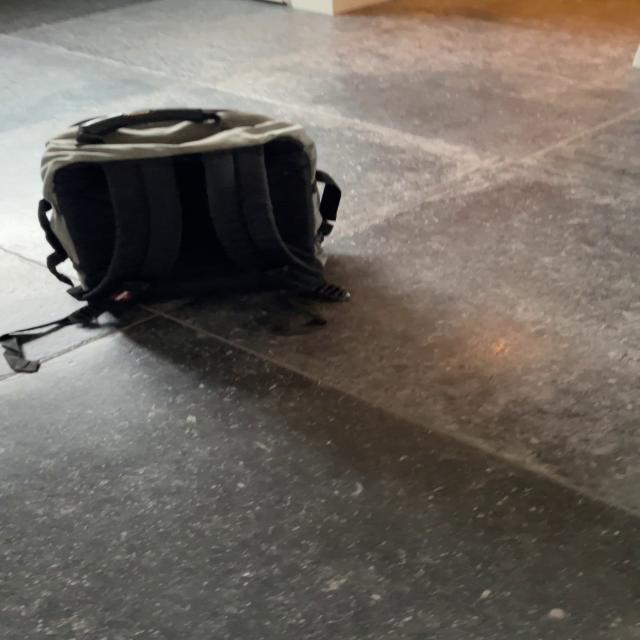backpack: (28, 99, 353, 331)
